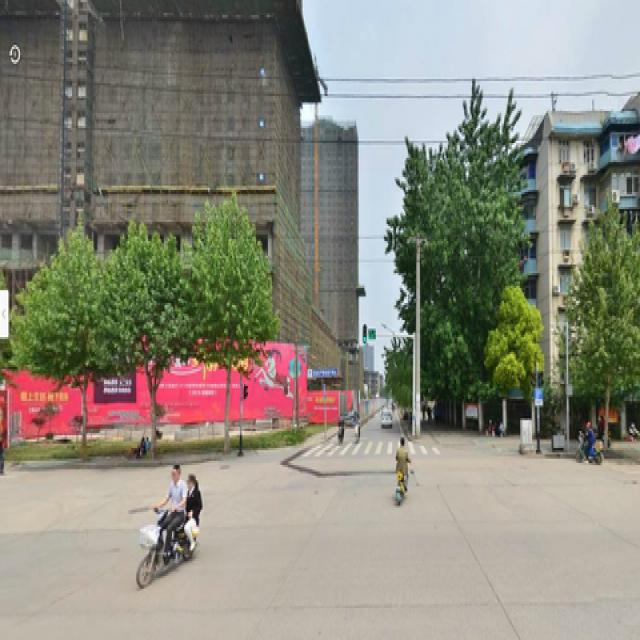meta: (182, 200, 274, 461)
